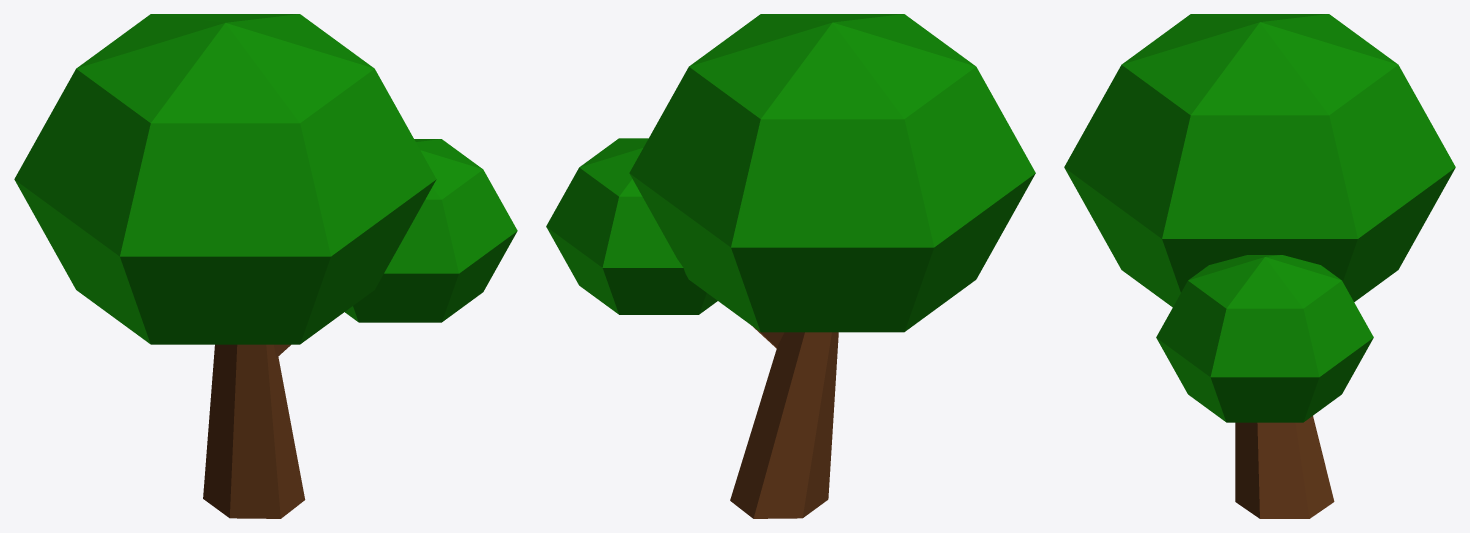
Rendered from Tree.fbx.
3 renders of one model, left to right at view 1: azimuth 30°, elevation 25°; view 2: azimuth 150°, elevation 25°; view 3: azimuth 270°, elevation 25°, orthographic. The views are drawn at different scales.
Visible parts, largest first — view 1: Leaf, Leaf.001, Trunk; view 2: Leaf, Leaf.001, Trunk; view 3: Leaf, Leaf.001, Trunk.
Boxes of the visible parts, bbox=[...] form: Leaf: bbox=[14, 14, 436, 344]; Leaf.001: bbox=[345, 139, 517, 322]; Trunk: bbox=[203, 344, 305, 518]; Leaf: bbox=[629, 14, 1035, 332]; Leaf.001: bbox=[546, 138, 717, 314]; Trunk: bbox=[730, 332, 838, 518]; Leaf: bbox=[1064, 14, 1455, 307]; Leaf.001: bbox=[1156, 255, 1373, 422]; Trunk: bbox=[1235, 416, 1334, 518].
Bounding box in the file's own units: 584 × 653 × 504.
